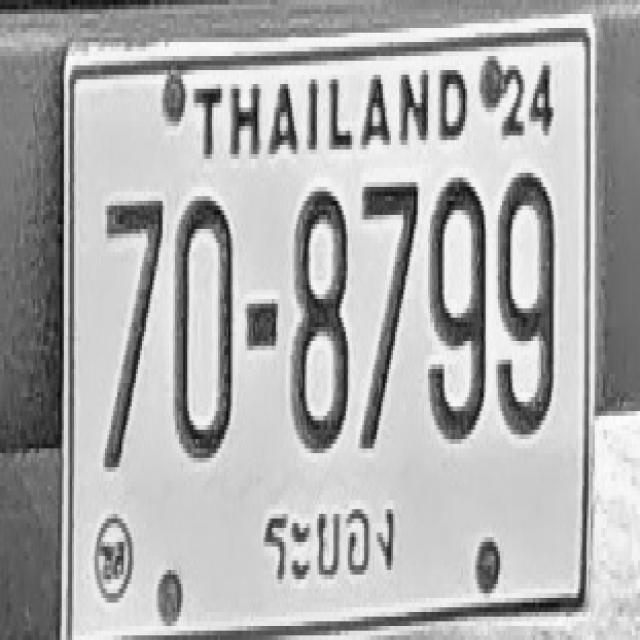0: (173, 194, 232, 460)
7: (104, 196, 164, 472), (360, 178, 418, 448)
8: (291, 189, 349, 451)
9: (496, 168, 554, 435), (428, 173, 486, 439)
Rayong: (261, 492, 407, 605)
